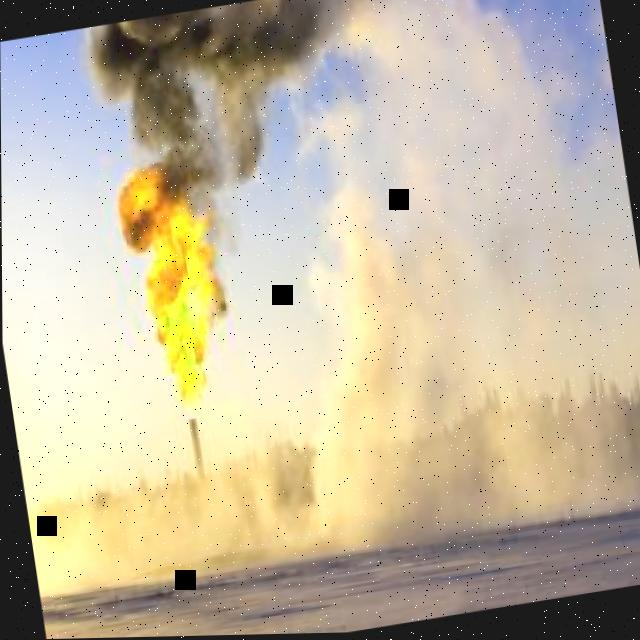fire: (116, 163, 226, 410)
smoke: (82, 0, 364, 261)
